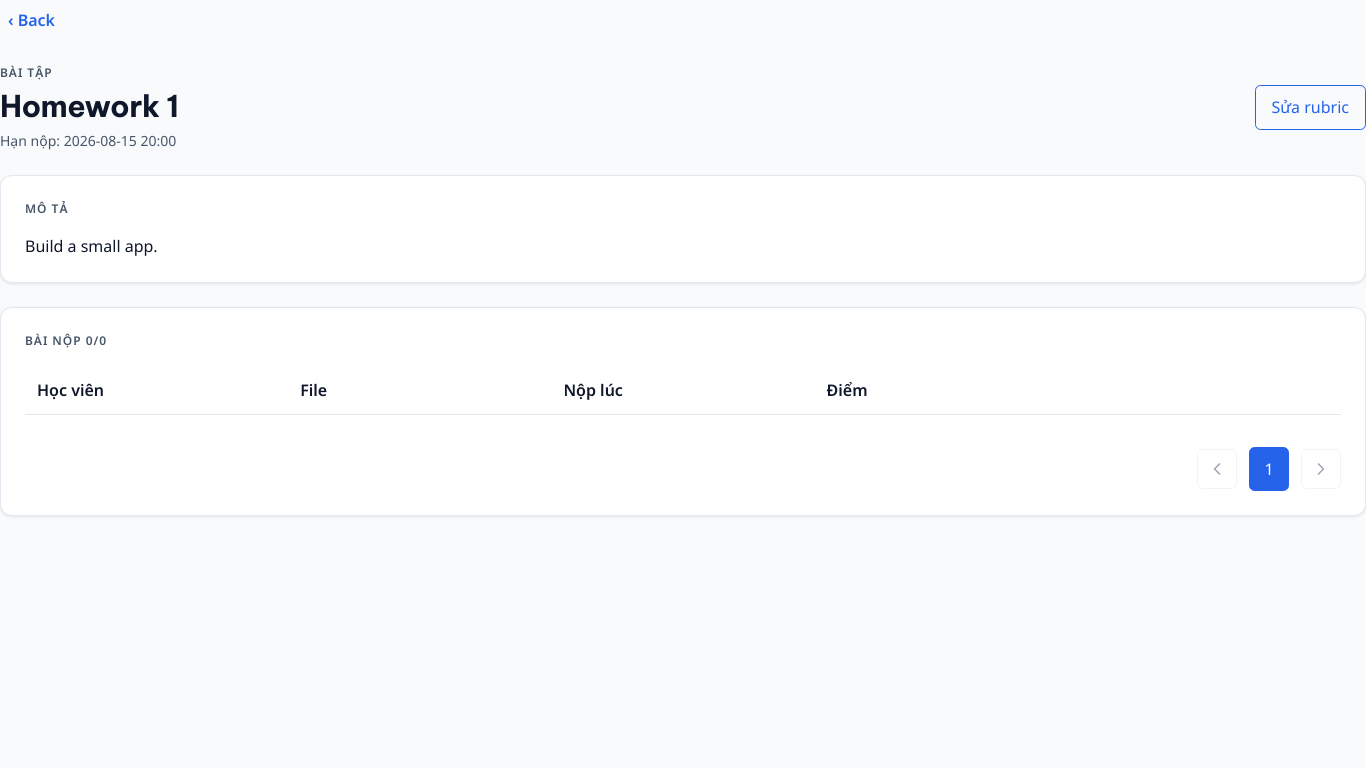
Test: Teacher assignment page › Dùng mẫu mặc định fills the three default criteria
Expected: the heading "Homework 1" is shown, [0,88,179,124]
Click the button "Sửa rubric" at (1310, 108), box [1254,85,1365,130]
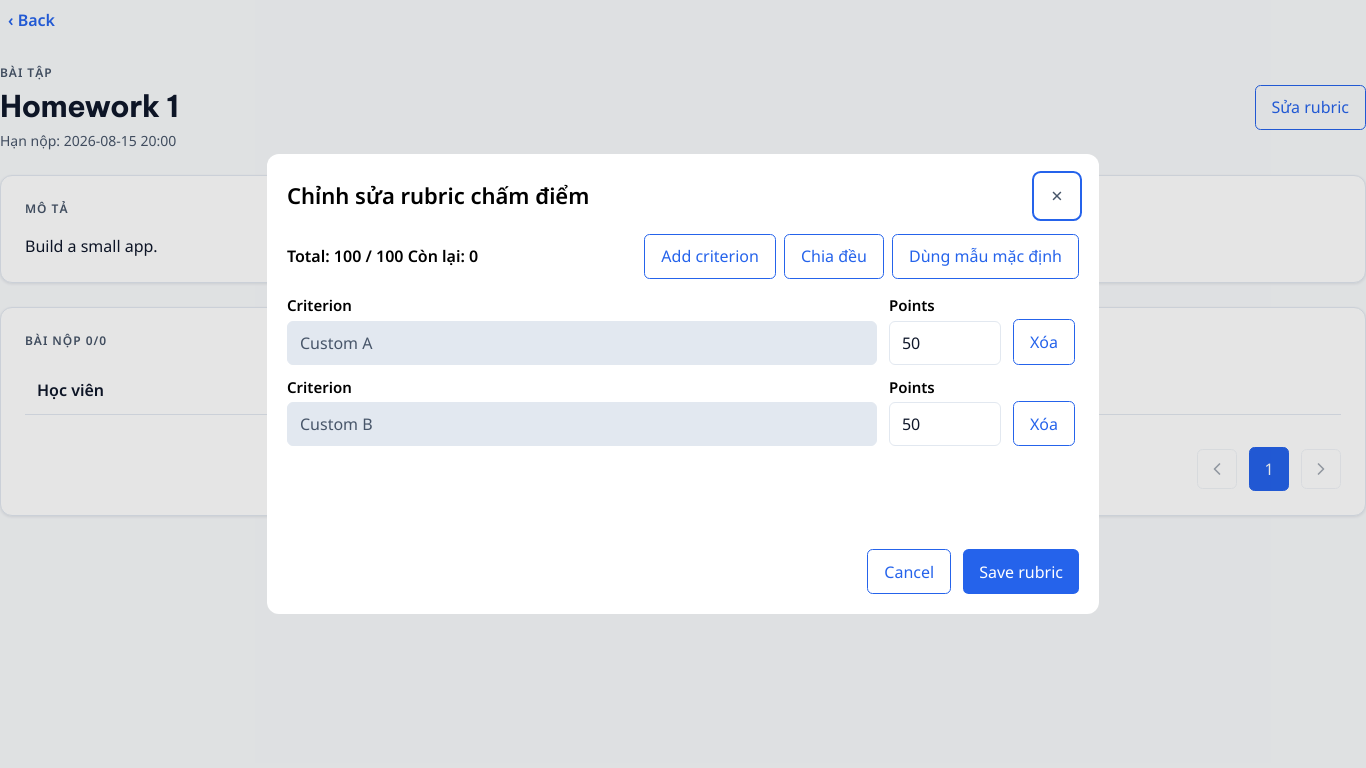
Click the button "Dùng mẫu mặc định" at (986, 256), box [892,234,1079,279]
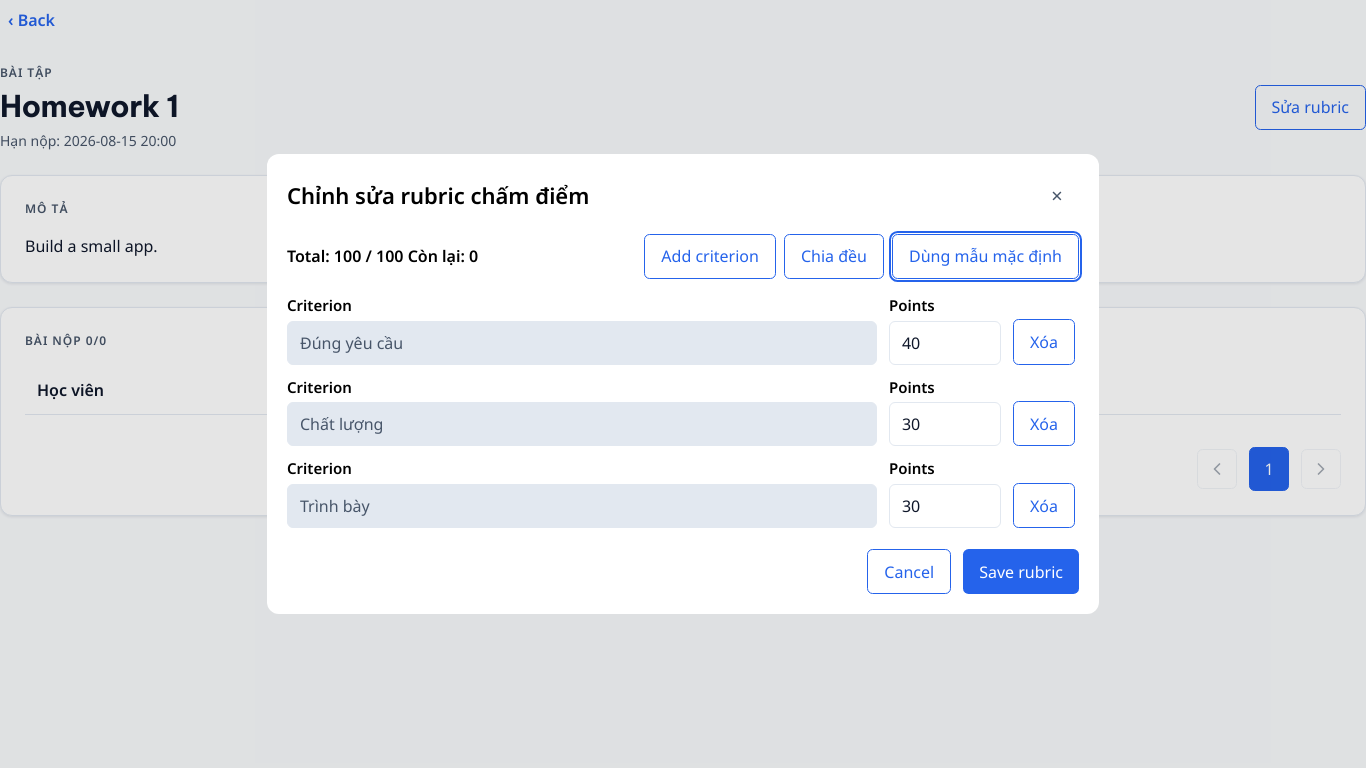
Expected: the 1st field showing "Đúng yêu cầu" is shown, [287,321,877,365]
Expected: the 2nd field showing "Chất lượng" is shown, [287,402,877,446]
Expected: the 3rd field showing "Trình bày" is shown, [287,484,877,528]
